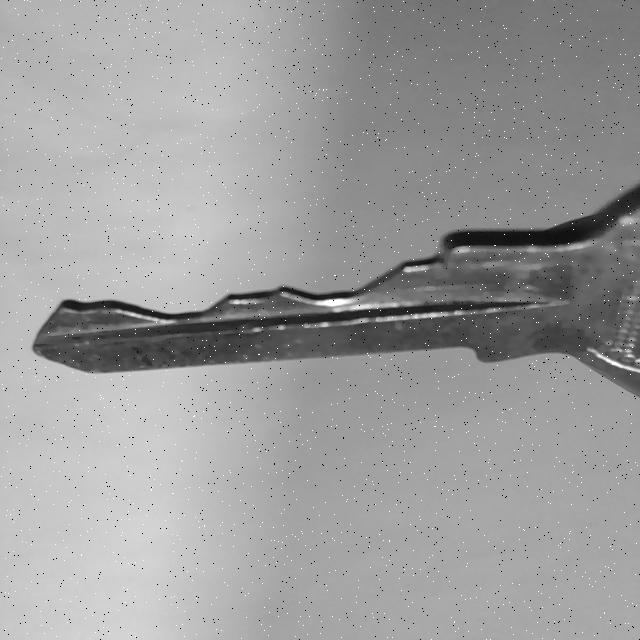key: (34, 189, 640, 394)
